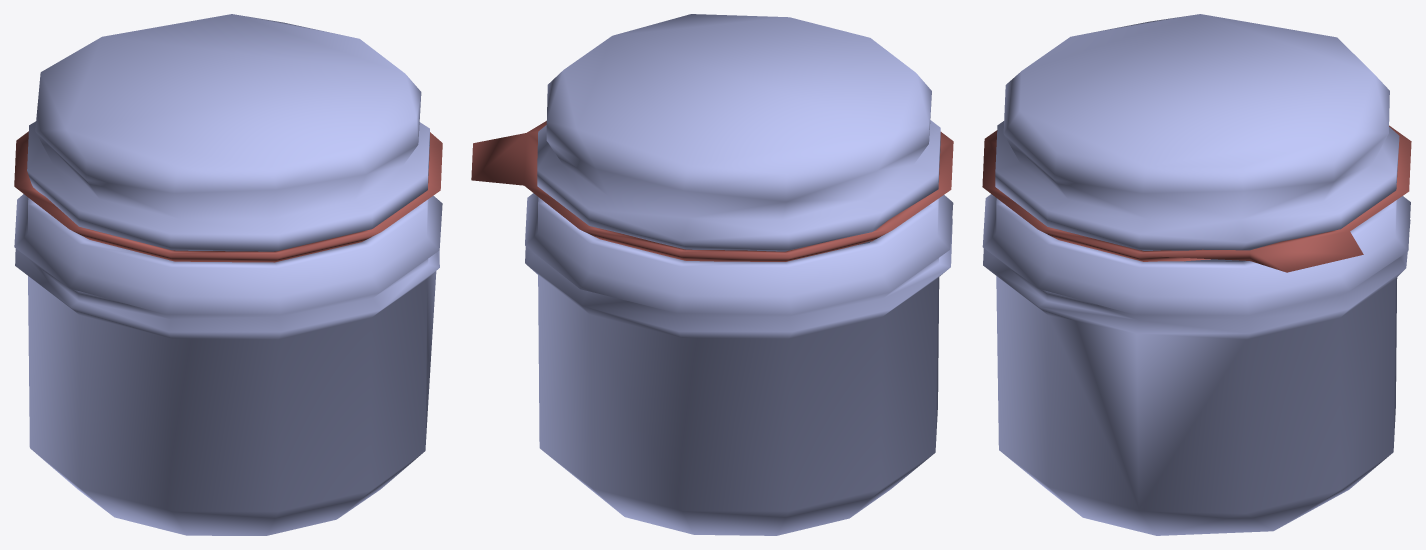
The model's file is stomach.fbx.
3 views of the same model, side by side, from view 1: azimuth 30°, elevation 25°; view 2: azimuth 150°, elevation 25°; view 3: azimuth 270°, elevation 25° (orthographic).
Visible parts, largest first — view 1: kitchen.preserving.jar.large; view 2: kitchen.preserving.jar.large; view 3: kitchen.preserving.jar.large.
Boxes of the visible parts, bbox=[...] form: kitchen.preserving.jar.large: bbox=[14, 14, 442, 535]; kitchen.preserving.jar.large: bbox=[471, 14, 953, 535]; kitchen.preserving.jar.large: bbox=[982, 14, 1411, 535].
Size of the model in its own units: 475 by 425 by 434.
